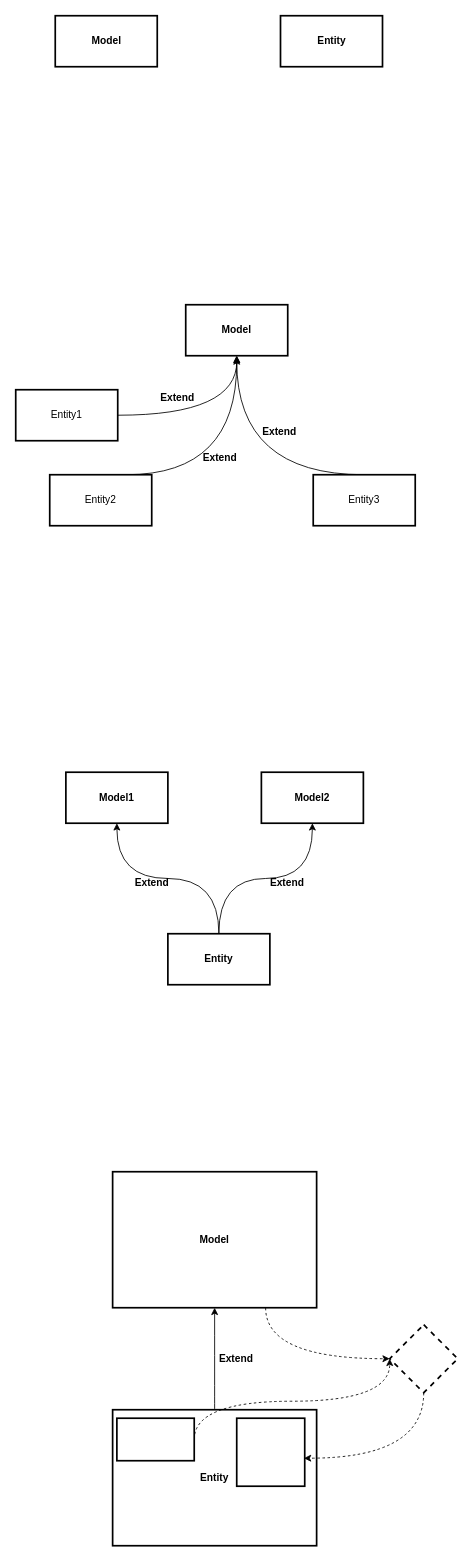
Some shapes in this 473 by 1561 pixel diagram are drawn without their labels. Here are the shapes that lost their labels. From the top down, the centre of each, then its label:
At point 423,1358: "merge".
At point 155,1439: "local constraints".
At point 270,1452: "constraints cache".
